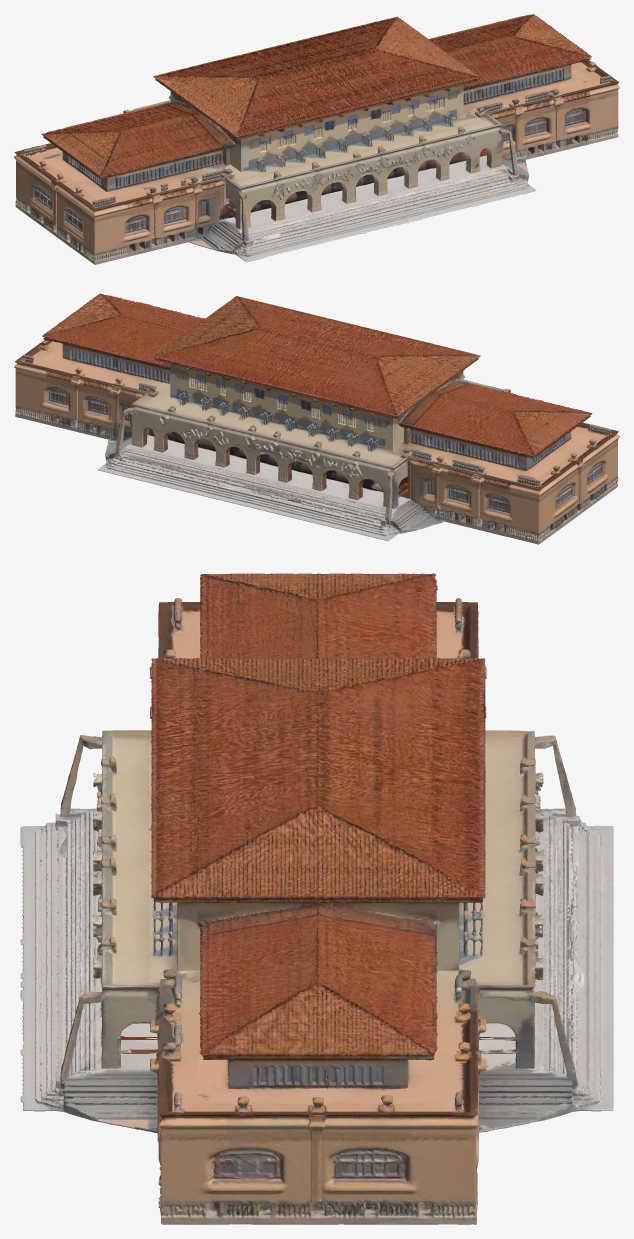
Rendered from intendencia.glb.
3 renders of one model, top to bottom at view 1: azimuth 30°, elevation 25°; view 2: azimuth 150°, elevation 25°; view 3: azimuth 270°, elevation 25°, orthographic. The views are drawn at different scales.
Parts seen in each view (by area): view 1: tmpxdzz4jdq.obj; view 2: tmpxdzz4jdq.obj; view 3: tmpxdzz4jdq.obj.
Boxes of the visible parts, x1,y1,x2,y2 form: tmpxdzz4jdq.obj: [14, 14, 619, 264]; tmpxdzz4jdq.obj: [14, 293, 619, 544]; tmpxdzz4jdq.obj: [20, 573, 613, 1224].
Size of the model in its own units: 1.87 by 0.373 by 0.9075.
1 material, 1 textured.
